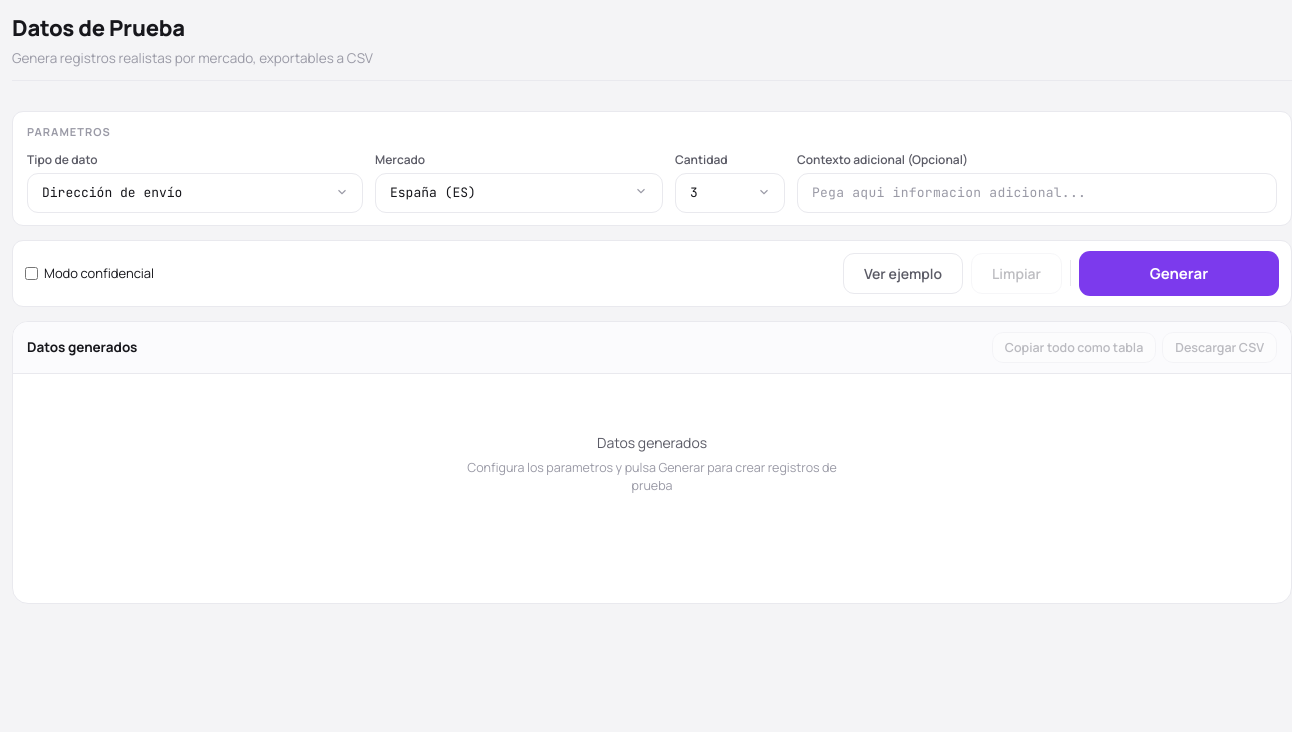
TestDataTool — Limpiar y columnas › Limpiar se habilita con solo el contexto adicional escrito
Type "solo contexto" into the field with id "td-context" at (1037,193), box [797,173,1277,213]
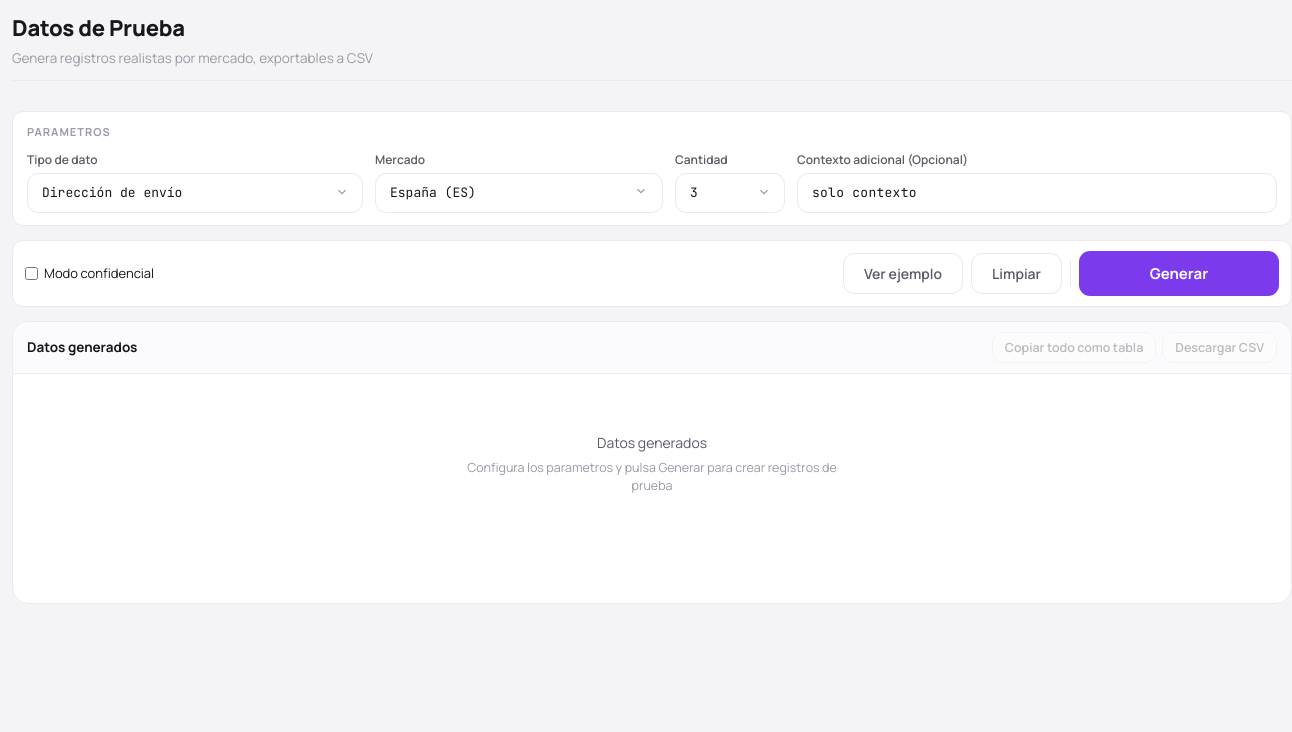
Result: the button "Limpiar" is enabled at [971,253,1062,294]
